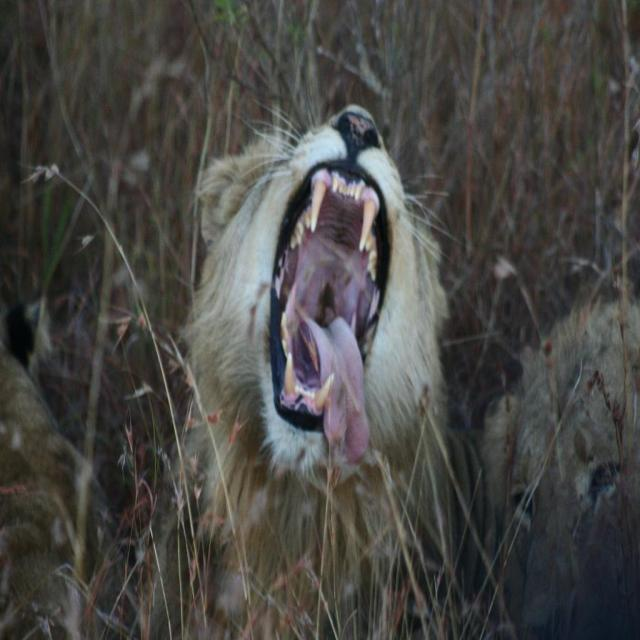lion: (118, 44, 510, 563)
